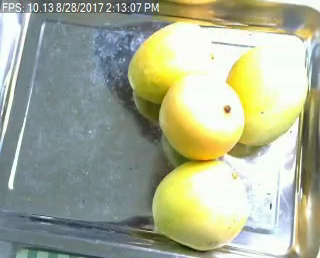Mango: (153, 158, 249, 251), (226, 45, 305, 146), (128, 21, 216, 106), (159, 77, 243, 161)
